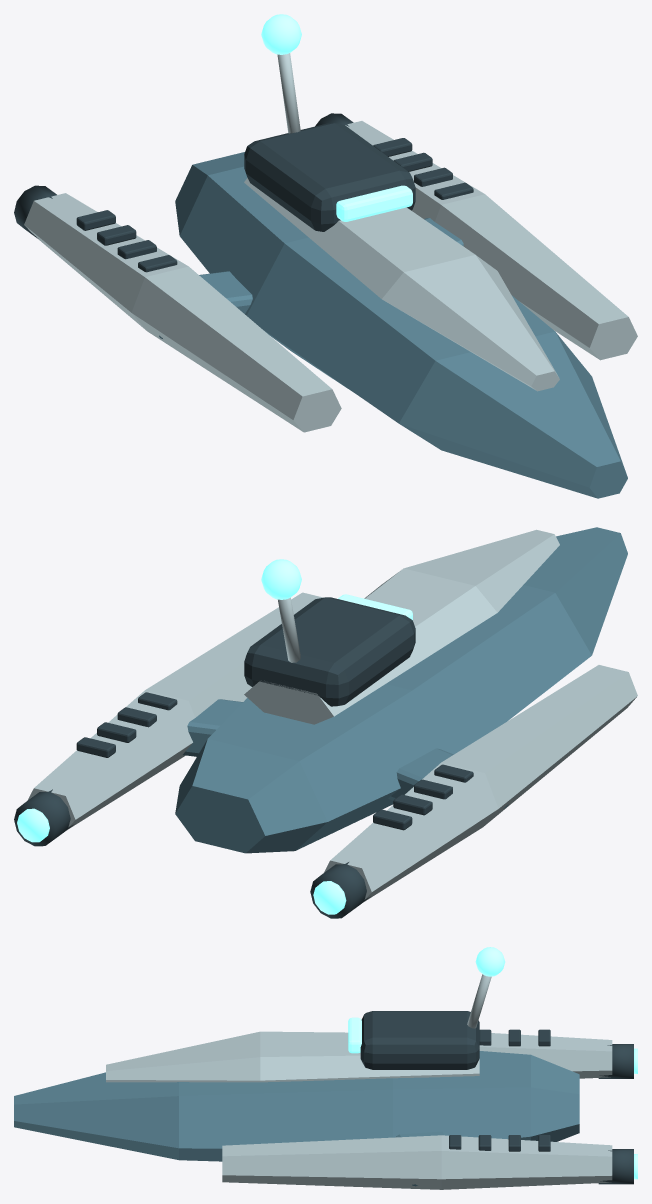
File: mcp-vessel.glb
The picture shows the model from 3 angles, top to bottom: view 1: azimuth 30°, elevation 25°; view 2: azimuth 150°, elevation 25°; view 3: azimuth 270°, elevation 25°; orthographic projection. The views are drawn at different scales.
Visible parts, largest first — view 1: body_ceramic.009, body_hull.009, body_dark.009, body_light.009; view 2: body_hull.009, body_ceramic.009, body_dark.009, body_light.009; view 3: body_hull.009, body_ceramic.009, body_dark.009, body_light.009.
Boxes of the visible parts, <box> form: body_ceramic.009: <box>24,53,637,432</box>; body_hull.009: <box>159,152,627,498</box>; body_dark.009: <box>14,113,473,272</box>; body_light.009: <box>261,14,412,221</box>; body_hull.009: <box>175,527,627,853</box>; body_ceramic.009: <box>27,529,637,902</box>; body_dark.009: <box>14,597,473,918</box>; body_light.009: <box>17,559,412,914</box>; body_hull.009: <box>14,1051,579,1186</box>; body_ceramic.009: <box>106,974,612,1189</box>; body_dark.009: <box>360,1011,633,1184</box>; body_light.009: <box>348,947,637,1179</box>.
Bounding box in the file's own units: 0.8832 × 0.6252 × 1.79.
